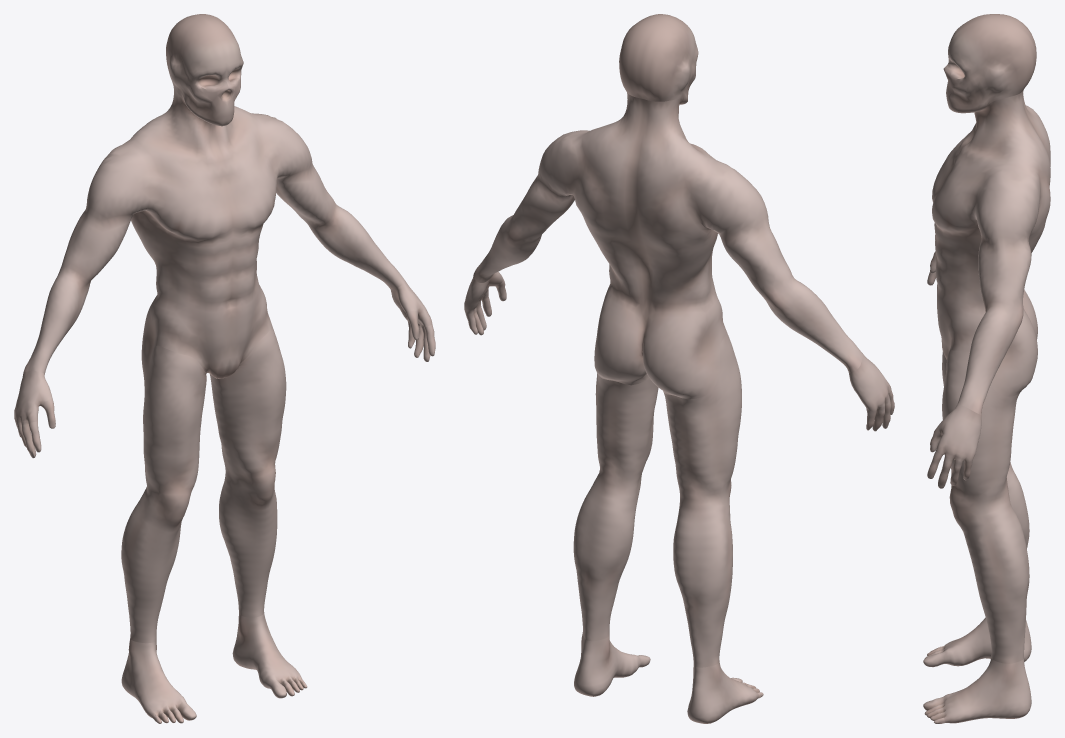
Rendered from human.glb.
3 views of the same model, side by side, from view 1: azimuth 30°, elevation 25°; view 2: azimuth 150°, elevation 25°; view 3: azimuth 270°, elevation 25° (orthographic). The views are drawn at different scales.
Parts seen in each view (by area): view 1: Object_3, Object_4, Object_2; view 2: Object_3, Object_4, Object_2; view 3: Object_3, Object_2, Object_4.
Part boxes in pixels (box(x1,y1,x2,y2)): Object_3: box(23, 87, 404, 379); Object_4: box(28, 310, 435, 723); Object_2: box(14, 14, 432, 723); Object_3: box(473, 93, 863, 399); Object_4: box(481, 279, 894, 698); Object_2: box(464, 14, 891, 723); Object_3: box(932, 90, 1050, 415); Object_2: box(923, 14, 1036, 723); Object_4: box(927, 251, 1029, 723).
Bounding box in the file's own units: 5.05 × 7.87 × 1.35.
